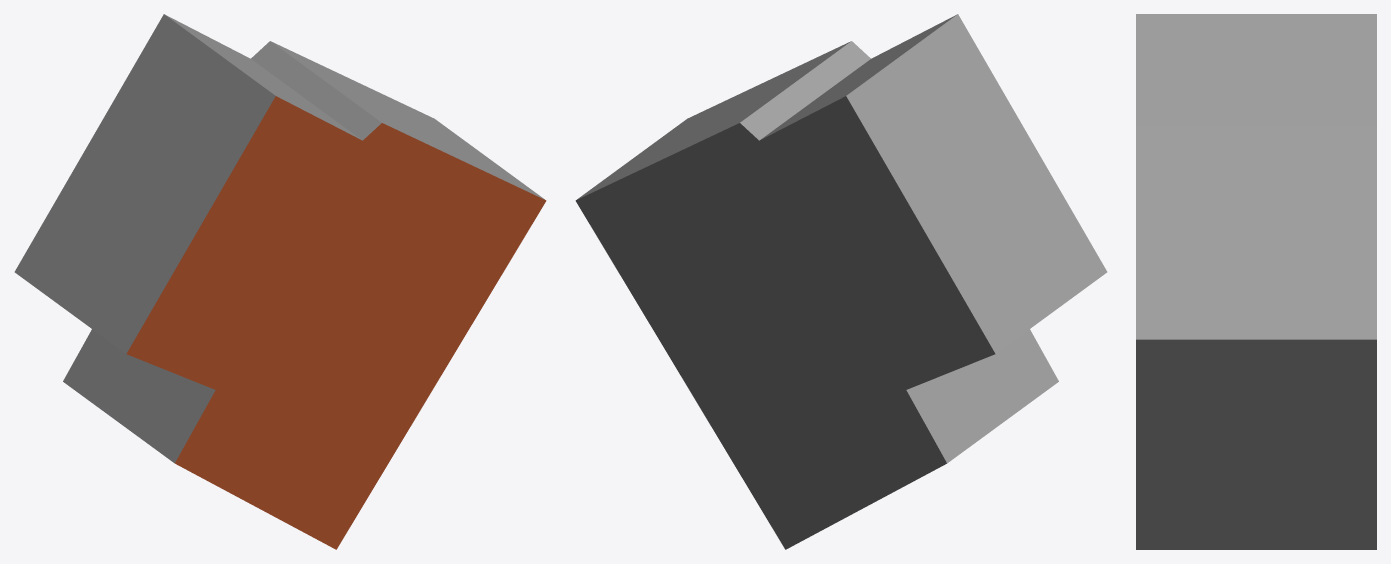
Rendered from construction_1322_assumed_A_Casa_h6m.obj.
3 views of the same model, side by side, from view 1: azimuth 30°, elevation 25°; view 2: azimuth 150°, elevation 25°; view 3: azimuth 270°, elevation 25° (orthographic). The views are drawn at different scales.
Parts seen in each view (by area): view 1: construction_1322_assumed_A_Casa; view 2: construction_1322_assumed_A_Casa; view 3: construction_1322_assumed_A_Casa.
Boxes of the visible parts, left/top/right/bottom form: construction_1322_assumed_A_Casa: left=14, top=14, right=546, bottom=549; construction_1322_assumed_A_Casa: left=575, top=14, right=1107, bottom=549; construction_1322_assumed_A_Casa: left=1136, top=14, right=1376, bottom=549.
Bounding box in the file's own units: 13 × 13.86 × 6.
